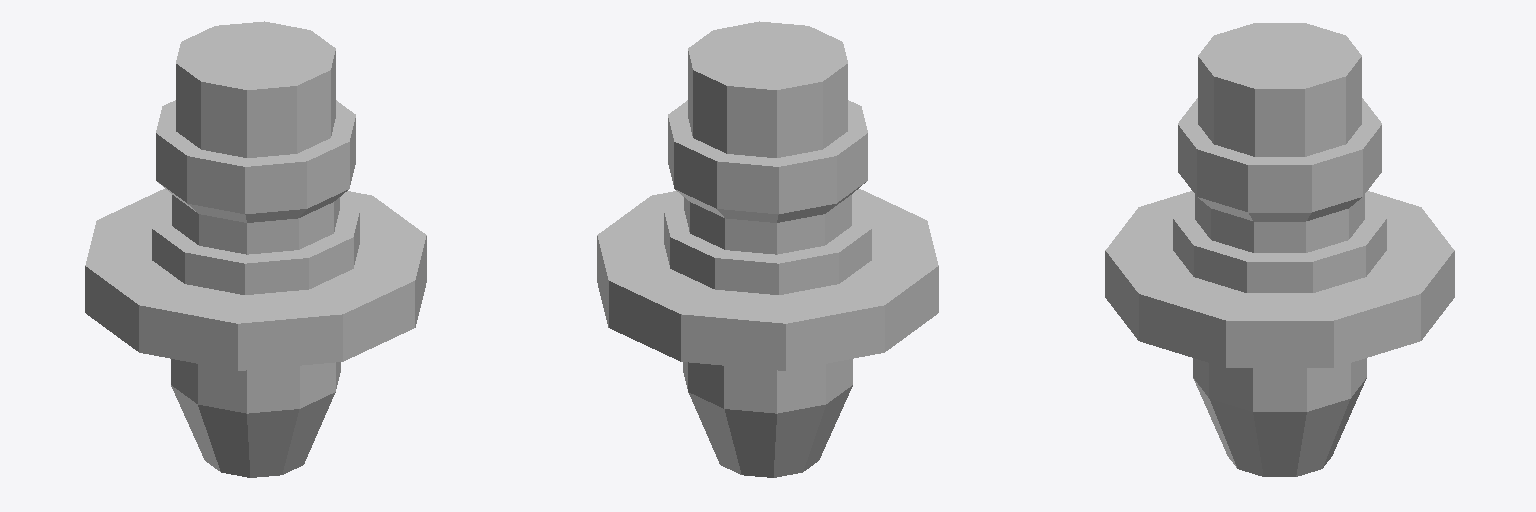
The model's file is 1Bit.obj.
3 renders of one model, left to right at view 1: azimuth 30°, elevation 25°; view 2: azimuth 150°, elevation 25°; view 3: azimuth 270°, elevation 25°, orthographic.
Parts seen in each view (by area): view 1: 1Bit; view 2: 1Bit; view 3: 1Bit.
Boxes of the visible parts, x1,y1,x2,y2 form: 1Bit: [85, 21, 426, 477]; 1Bit: [597, 21, 938, 477]; 1Bit: [1105, 23, 1454, 476].
Bounding box in the file's own units: 1.9 × 2.53 × 2.